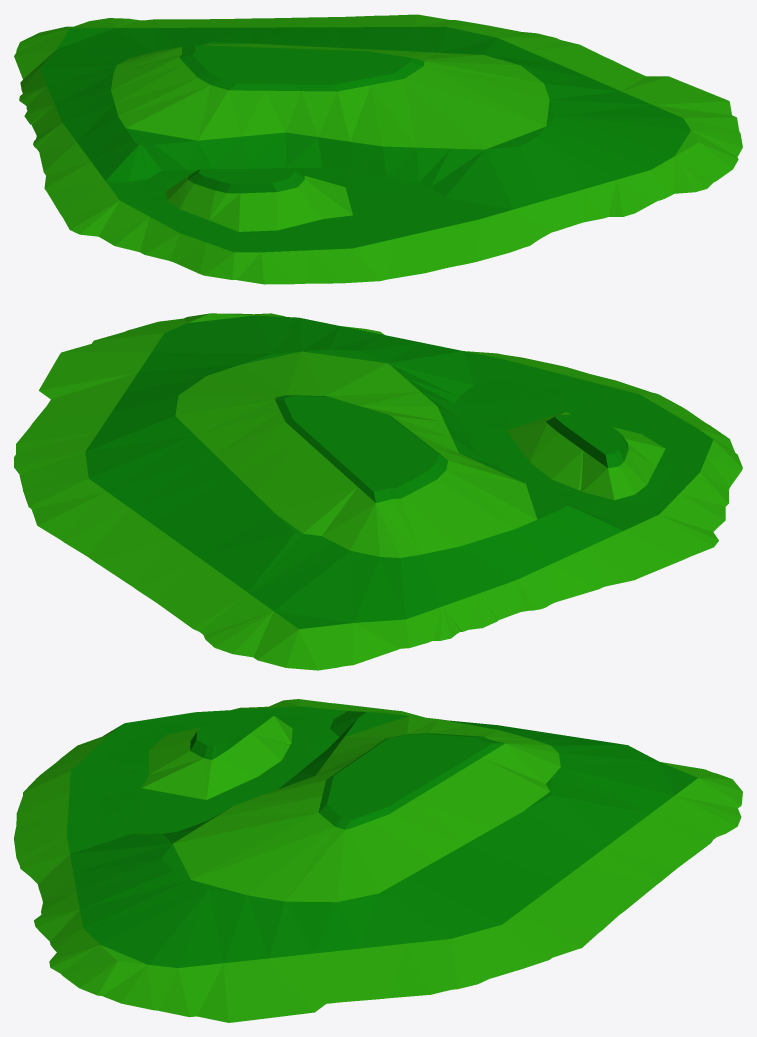
The model's file is Terrain_Verdant_Grass_Hill_01.FBX.
The picture shows the model from 3 angles, top to bottom: view 1: azimuth 30°, elevation 25°; view 2: azimuth 150°, elevation 25°; view 3: azimuth 270°, elevation 25°; orthographic projection. The views are drawn at different scales.
Parts seen in each view (by area): view 1: Terrain_Verdant_Grass_Hill_01; view 2: Terrain_Verdant_Grass_Hill_01; view 3: Terrain_Verdant_Grass_Hill_01.
Boxes of the visible parts, x1,y1,x2,y2 form: Terrain_Verdant_Grass_Hill_01: (14,14,742,284); Terrain_Verdant_Grass_Hill_01: (14,313,742,670); Terrain_Verdant_Grass_Hill_01: (14,699,742,1022).
Size of the model in its own units: 71018 by 6977 by 67534.
